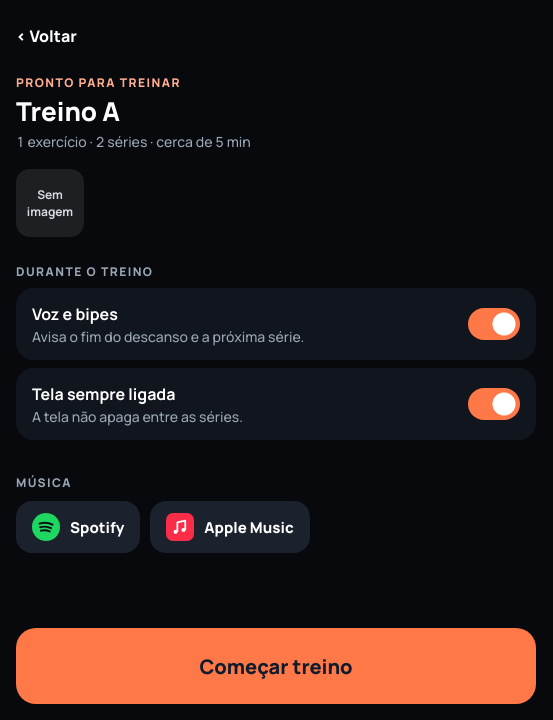
Test: LiveWorkout (FIT-153) › preparação começa a sessão e música abre o serviço em um toque, guardando a preferência
The image size is (553, 720).
Click the button "Spotify".
click(78, 527)  # box [16, 501, 140, 553]
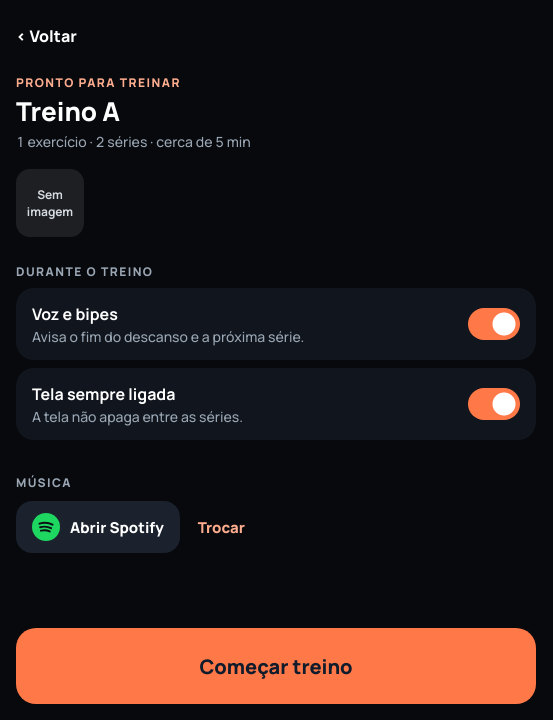
Check: the button "Abrir Spotify" is shown, box [16, 501, 180, 553]
Click the button "Trocar".
click(221, 527)  # box [194, 505, 249, 549]
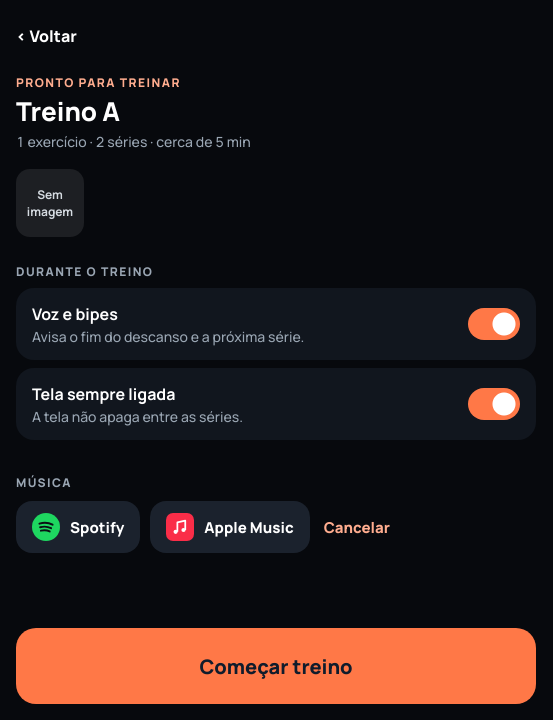
Check: the button "Apple Music" is shown, box [150, 501, 310, 553]
Click the button "Cancelar".
click(357, 527)  # box [320, 505, 394, 549]
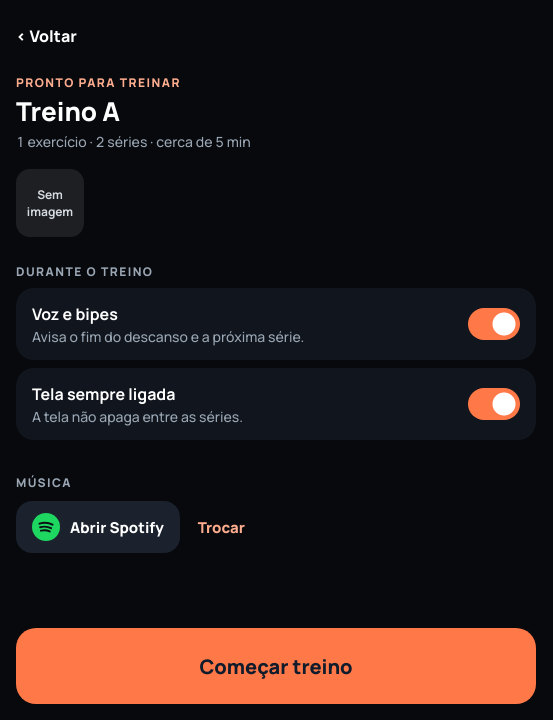
Click the button "Começar treino".
click(276, 666)  # box [16, 628, 536, 704]
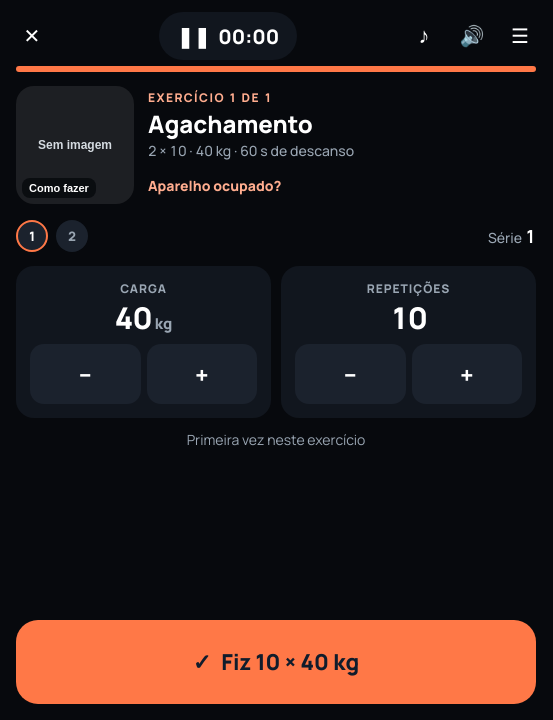
Check: the button "✓ Fiz 10 × 40 kg" is shown, box [16, 620, 536, 704]
